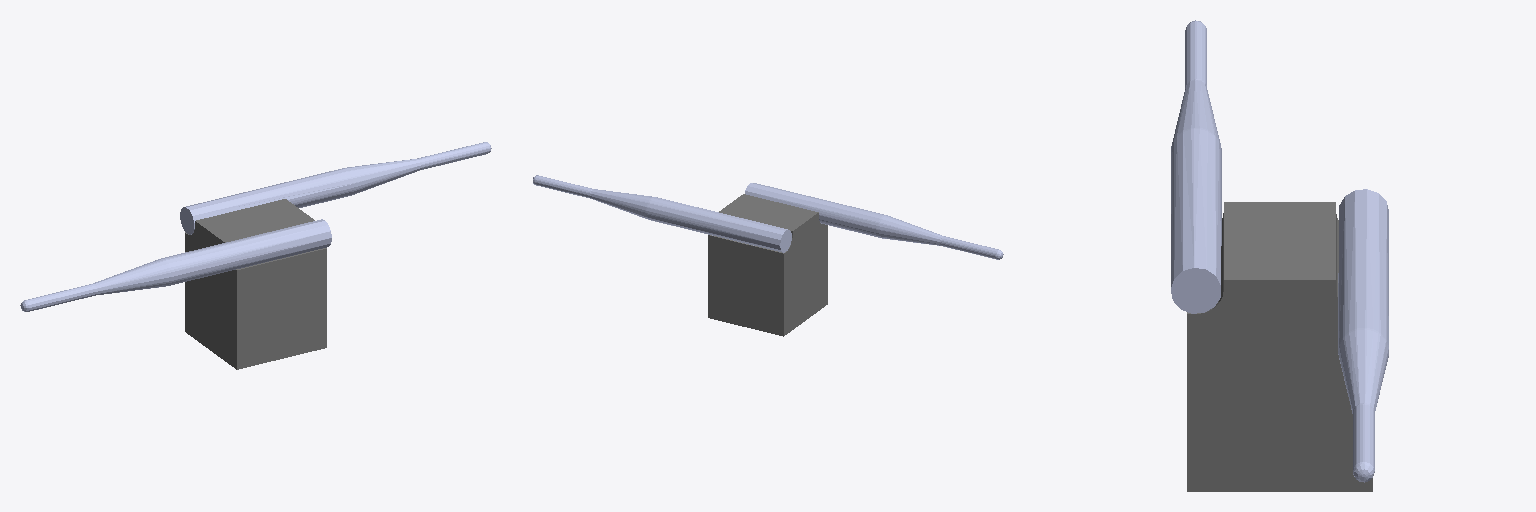
robot.urdf — Assembly_Antenna.SLDASM:
<?xml version="1.0" encoding="utf-8"?>
<!-- This URDF was automatically created by SolidWorks to URDF Exporter! Originally created by [author] ([email redacted]) 
     Commit Version: 1.6.0-4-g7f85cfe  Build Version: 1.6.7995.38578
     For more information, please see http://wiki.ros.org/sw_urdf_exporter -->
<robot
  name="Assembly_Antenna.SLDASM">
  <link
    name="base_link">
    <inertial>
      <origin
        xyz="-0.013770429915415 -0.0502417283872689 0.0405975200992432"
        rpy="0 0 0" />
      <mass
        value="0.157741907468955" />
      <inertia
        ixx="8.05644747373492E-05"
        ixy="8.64190043273125E-22"
        ixz="-5.57301263291372E-21"
        iyy="8.26773949776008E-05"
        iyz="-2.29670477083875E-21"
        izz="6.57329257748624E-05" />
    </inertial>
    <visual>
      <origin
        xyz="0 0 0"
        rpy="0 0 0" />
      <geometry>
        <mesh
          filename="package://Assembly_Antenna.SLDASM/meshes/base_link.STL" />
      </geometry>
      <material
        name="">
        <color
          rgba="0.525490196078431 0.525490196078431 0.525490196078431 1" />
      </material>
    </visual>
    <collision>
      <origin
        xyz="0 0 0"
        rpy="0 0 0" />
      <geometry>
        <mesh
          filename="package://Assembly_Antenna.SLDASM/meshes/base_link.STL" />
      </geometry>
    </collision>
  </link>
  <link
    name="antenna_link">
    <inertial>
      <origin
        xyz="0 0.0622120408173393 1.38777878078145E-17"
        rpy="0 0 0" />
      <mass
        value="0.0182738617904036" />
      <inertia
        ixx="2.86998928260131E-05"
        ixy="7.98858887631188E-27"
        ixz="0"
        iyy="3.96416602441184E-07"
        iyz="-2.39204257892046E-23"
        izz="2.86998928260131E-05" />
    </inertial>
    <visual>
      <origin
        xyz="0 0 0"
        rpy="0 0 0" />
      <geometry>
        <mesh
          filename="package://Assembly_Antenna.SLDASM/meshes/antenna_link.STL" />
      </geometry>
      <material
        name="">
        <color
          rgba="0.792156862745098 0.819607843137255 0.933333333333333 1" />
      </material>
    </visual>
    <collision>
      <origin
        xyz="0 0 0"
        rpy="0 0 0" />
      <geometry>
        <mesh
          filename="package://Assembly_Antenna.SLDASM/meshes/antenna_link.STL" />
      </geometry>
    </collision>
  </link>
  <joint
    name="Antenna_Pole"
    type="fixed">
    <origin
      xyz="0.01163 -0.073087 0.070806"
      rpy="3.1416 1.5162 -1.5708" />
    <parent
      link="base_link" />
    <child
      link="antenna_link" />
    <axis
      xyz="0 0 0" />
  </joint>
  <link
    name="antenna_link2">
    <inertial>
      <origin
        xyz="-6.93889390390723E-18 0.0622120408173393 0"
        rpy="0 0 0" />
      <mass
        value="0.0182738617904036" />
      <inertia
        ixx="2.8699892826013E-05"
        ixy="3.96572060743503E-22"
        ixz="0"
        iyy="3.96416602441184E-07"
        iyz="-3.65278404136056E-21"
        izz="2.8699892826013E-05" />
    </inertial>
    <visual>
      <origin
        xyz="0 0 0"
        rpy="0 0 0" />
      <geometry>
        <mesh
          filename="package://Assembly_Antenna.SLDASM/meshes/antenna_link2.STL" />
      </geometry>
      <material
        name="">
        <color
          rgba="0.792156862745098 0.819607843137255 0.933333333333333 1" />
      </material>
    </visual>
    <collision>
      <origin
        xyz="0 0 0"
        rpy="0 0 0" />
      <geometry>
        <mesh
          filename="package://Assembly_Antenna.SLDASM/meshes/antenna_link2.STL" />
      </geometry>
    </collision>
  </link>
  <joint
    name="Antenna_Pole2"
    type="fixed">
    <origin
      xyz="-0.03917 -0.027397 0.070806"
      rpy="0 0.10784 -1.5708" />
    <parent
      link="base_link" />
    <child
      link="antenna_link2" />
    <axis
      xyz="0 0 0" />
  </joint>
</robot>

--- What the picture shows (computed from the rendered views, not written in the file) ---
The picture shows the robot from 3 angles, left to right: view 1: azimuth 30°, elevation 25°; view 2: azimuth 150°, elevation 25°; view 3: azimuth 270°, elevation 25°; orthographic projection.
Robot: Assembly_Antenna.SLDASM — 3 links, 2 joints (2 fixed); root link base_link; default pose: all joints at 0.
Visible links, largest first — view 1: base_link, antenna_link, antenna_link2; view 2: base_link, antenna_link2, antenna_link; view 3: base_link, antenna_link, antenna_link2.
Boxes of the visible links, left/top/right/bottom form: base_link: left=185, top=199, right=326, bottom=369; antenna_link: left=20, top=219, right=331, bottom=311; antenna_link2: left=180, top=142, right=491, bottom=234; base_link: left=708, top=194, right=827, bottom=336; antenna_link2: left=533, top=175, right=791, bottom=252; antenna_link: left=745, top=183, right=1003, bottom=259; base_link: left=1187, top=202, right=1372, bottom=491; antenna_link: left=1171, top=20, right=1221, bottom=313; antenna_link2: left=1338, top=189, right=1388, bottom=482.
Size in the robot's own frame: 0.2892 by 0.0597 by 0.0673 metres.
3 mesh visuals loaded from 3 distinct referenced files (3 binary STL).